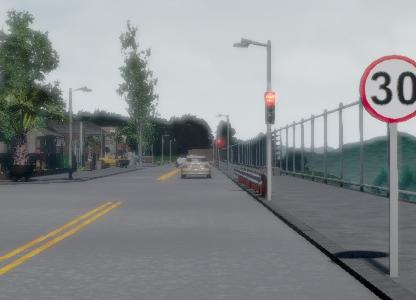Speed_30: (355, 53, 416, 125)
